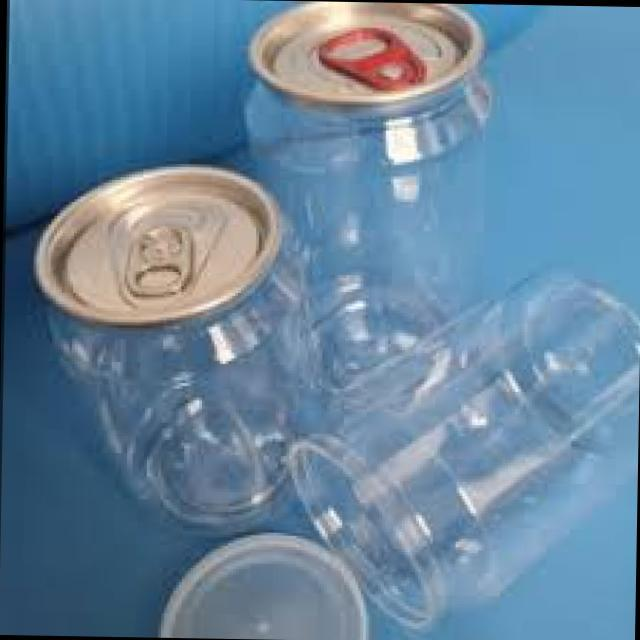good: (284, 269, 640, 634), (28, 167, 340, 532), (232, 0, 492, 401)
